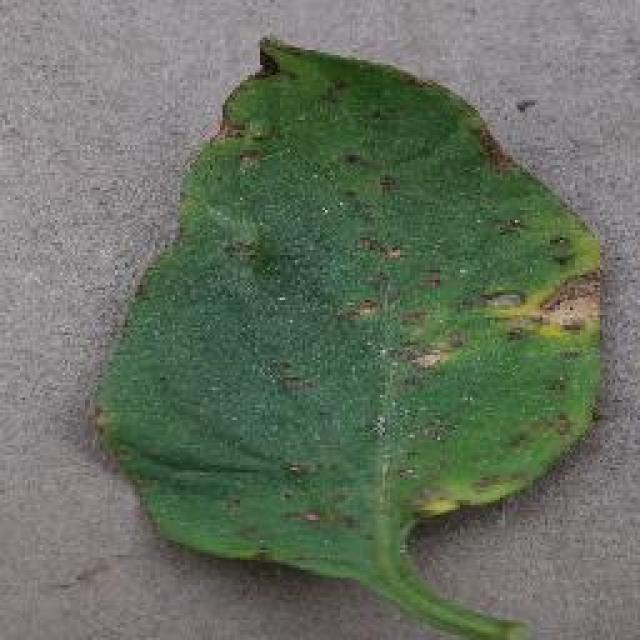Tomato___Bacterial_spot: (85, 36, 608, 638)
